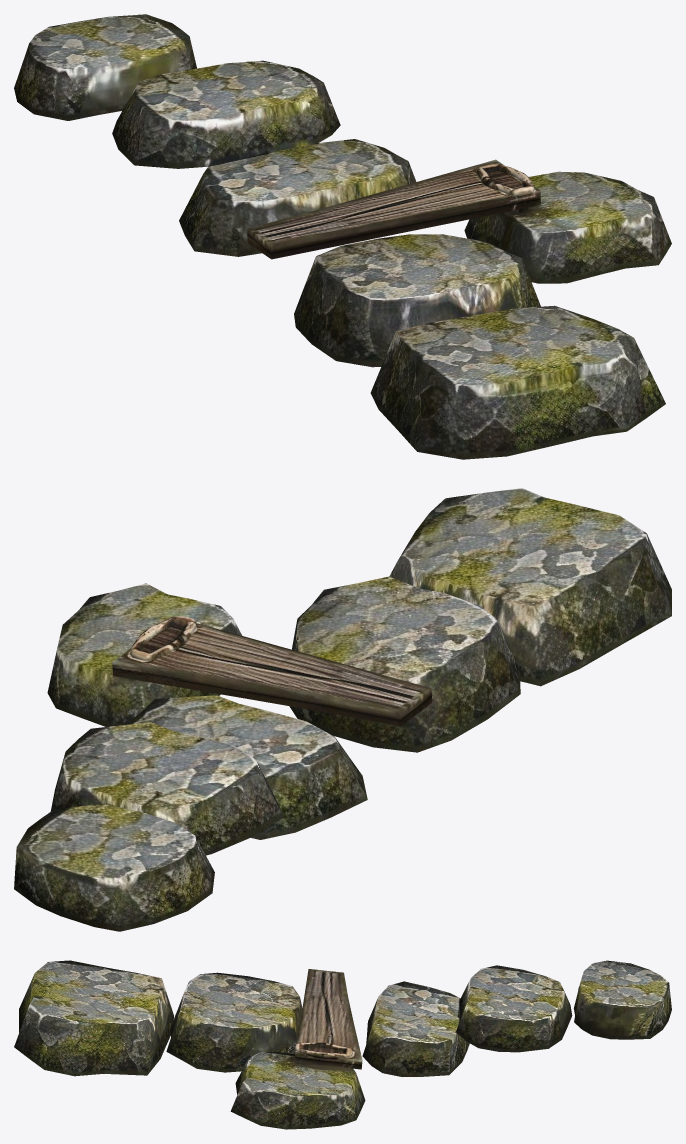
Rendered from act1-a06-3-stepping-ford.glb.
3 views of the same model, one above another, from view 1: azimuth 30°, elevation 25°; view 2: azimuth 150°, elevation 25°; view 3: azimuth 270°, elevation 25° (orthographic). The views are drawn at different scales.
Visible parts, largest first — view 1: act1-a06-3-stepping-ford; view 2: act1-a06-3-stepping-ford; view 3: act1-a06-3-stepping-ford.
Part boxes in pixels (x1=…): act1-a06-3-stepping-ford: x1=14, y1=14, x2=671, y2=459; act1-a06-3-stepping-ford: x1=14, y1=488, x2=671, y2=931; act1-a06-3-stepping-ford: x1=14, y1=960, x2=671, y2=1129.
Bounding box in the file's own units: 3.33 × 0.7084 × 7.
1 material, 1 textured.
